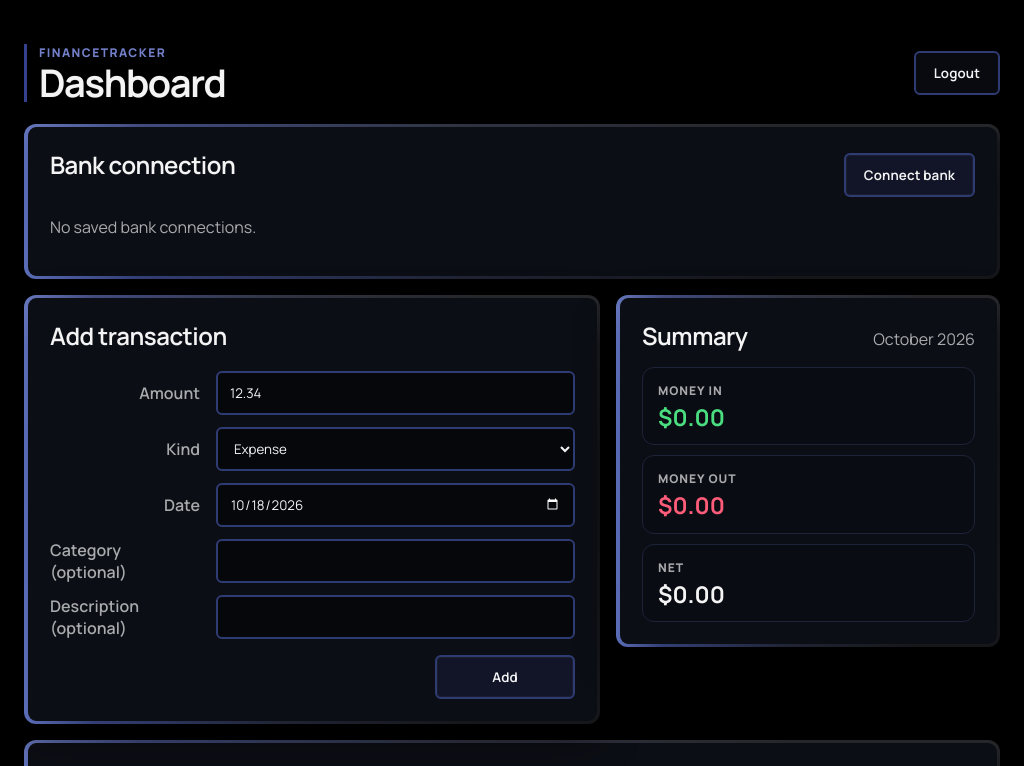
Scenario: Connect bank › requests a token on click and opens Plaid once its SDK is ready
The image size is (1024, 766).
Click the button "Connect bank" at (909, 174), box left=844, top=152, right=975, bottom=196
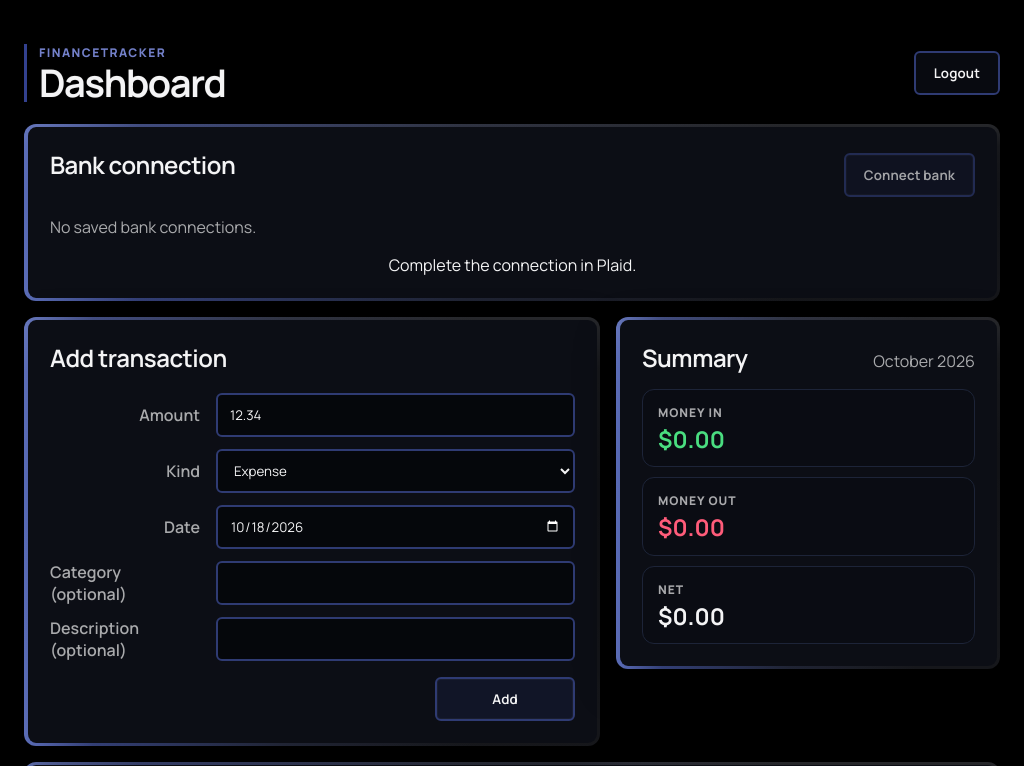
Expected: the button "Connect bank" is disabled, left=844, top=152, right=975, bottom=196
